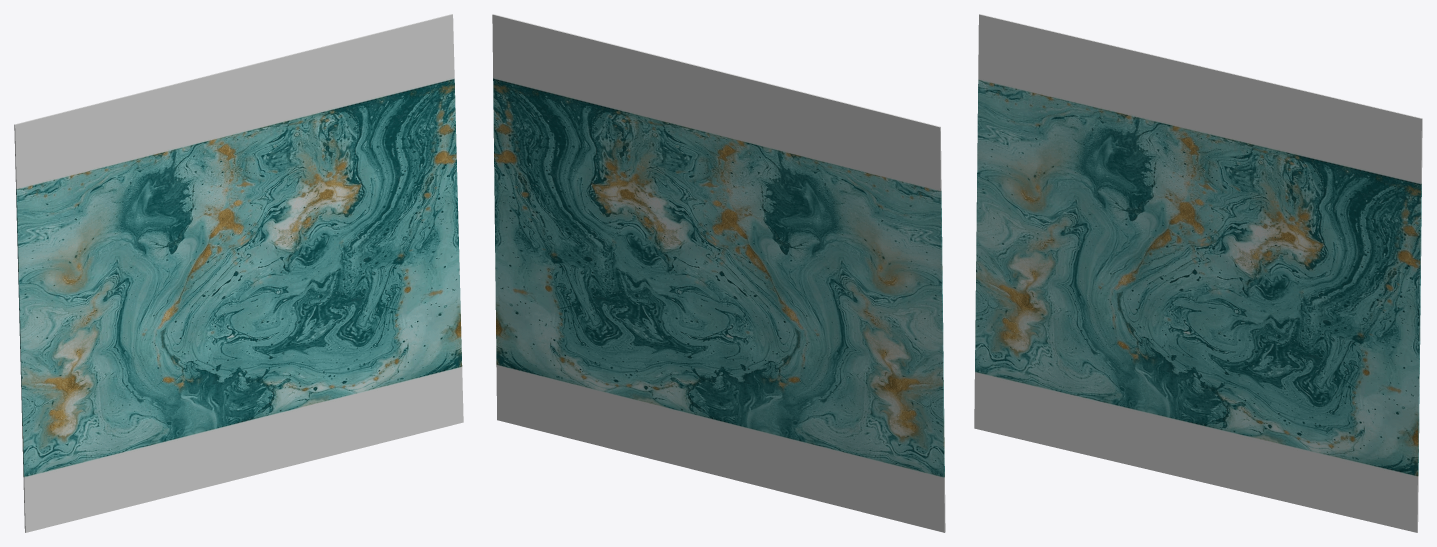
3 views of the same model, side by side, from view 1: azimuth 30°, elevation 25°; view 2: azimuth 150°, elevation 25°; view 3: azimuth 330°, elevation 25° (orthographic). The views are drawn at different scales.
Parts seen in each view (by area): view 1: Mesh_0.009; view 2: Mesh_0.009; view 3: Mesh_0.009.
Part boxes in pixels (x1,y1,x2,y2): Mesh_0.009: [14, 14, 463, 532]; Mesh_0.009: [492, 14, 945, 532]; Mesh_0.009: [974, 14, 1422, 532].
Bounding box in the file's own units: 2.29 × 2.02 × 0.0757.
1 material, 1 textured.
